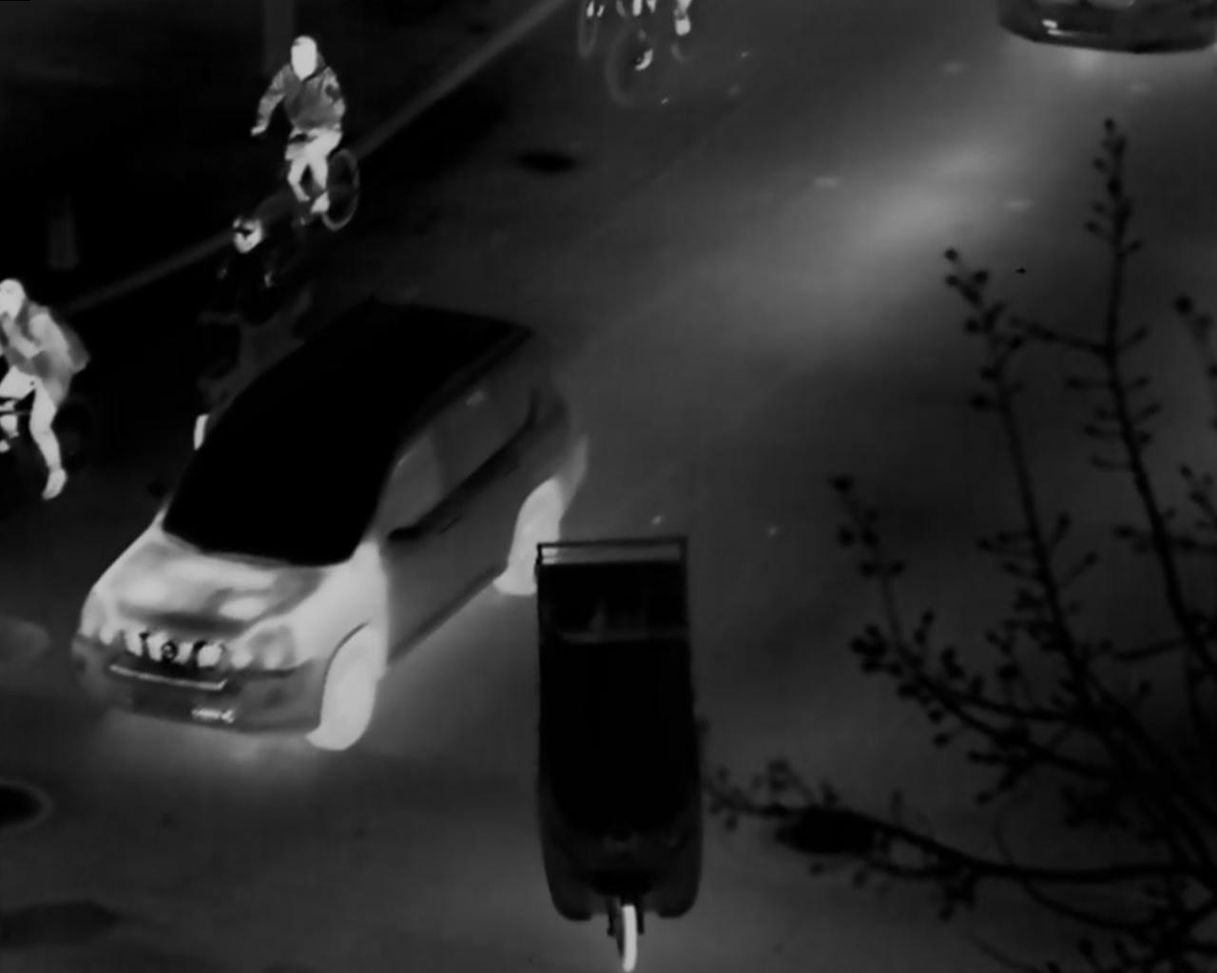person: (2, 276, 89, 501), (251, 34, 343, 219)
